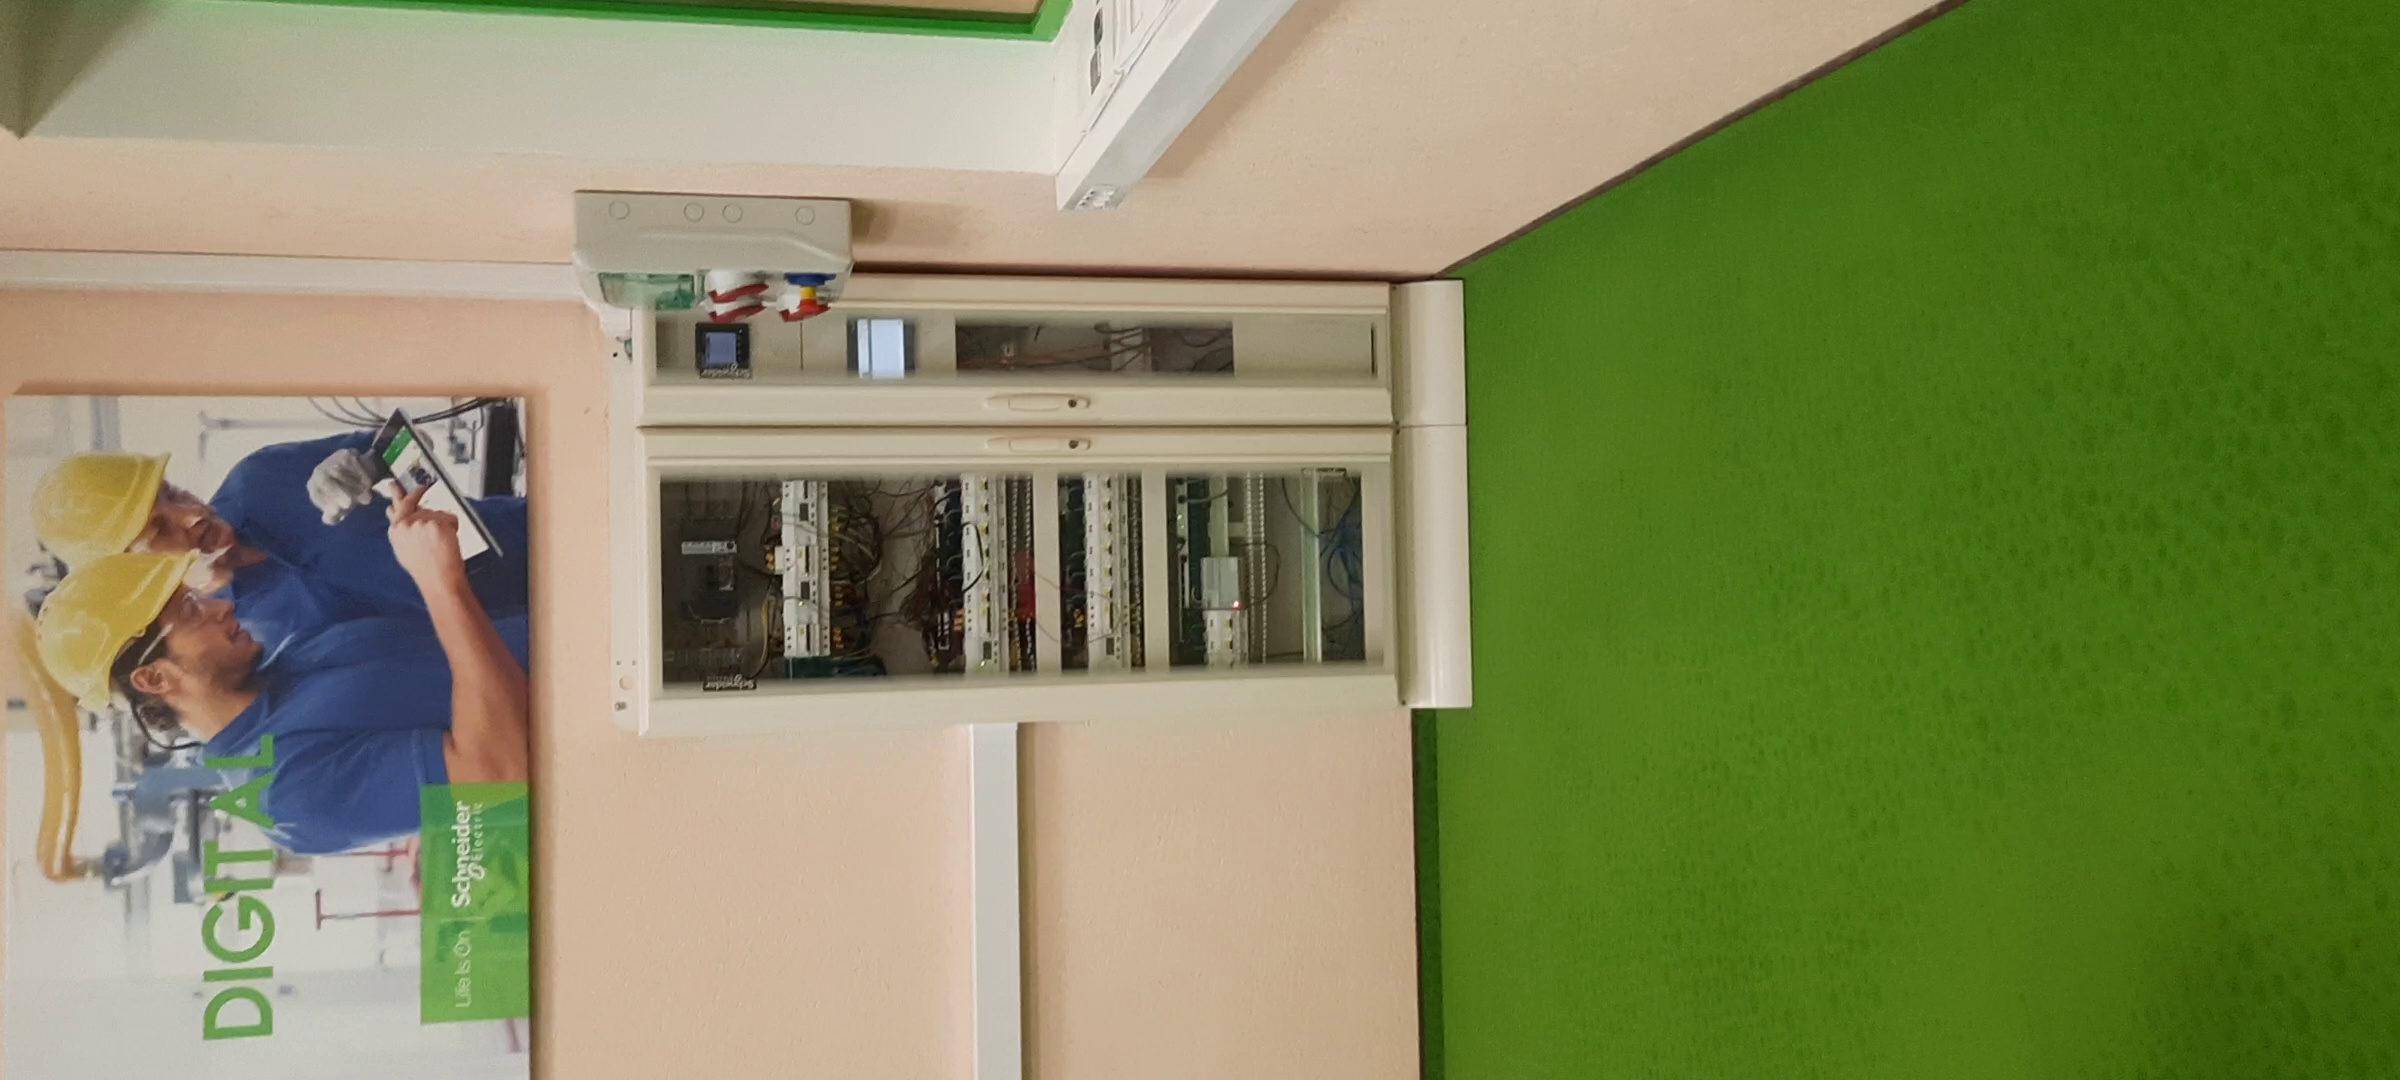stand1: (635, 246, 1466, 707)
